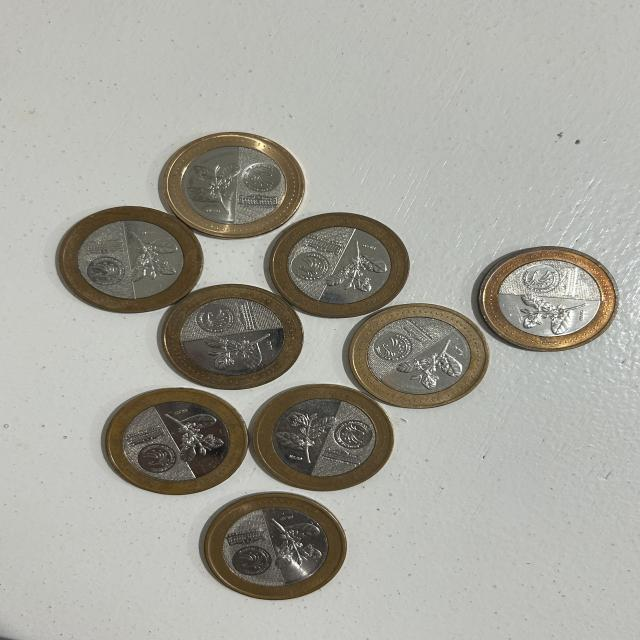20_New_Back: (160, 412, 233, 466), (200, 333, 281, 381), (270, 408, 336, 465), (329, 240, 390, 292), (403, 339, 463, 391), (180, 161, 241, 211), (128, 230, 182, 283), (267, 517, 321, 568), (518, 296, 584, 336)
